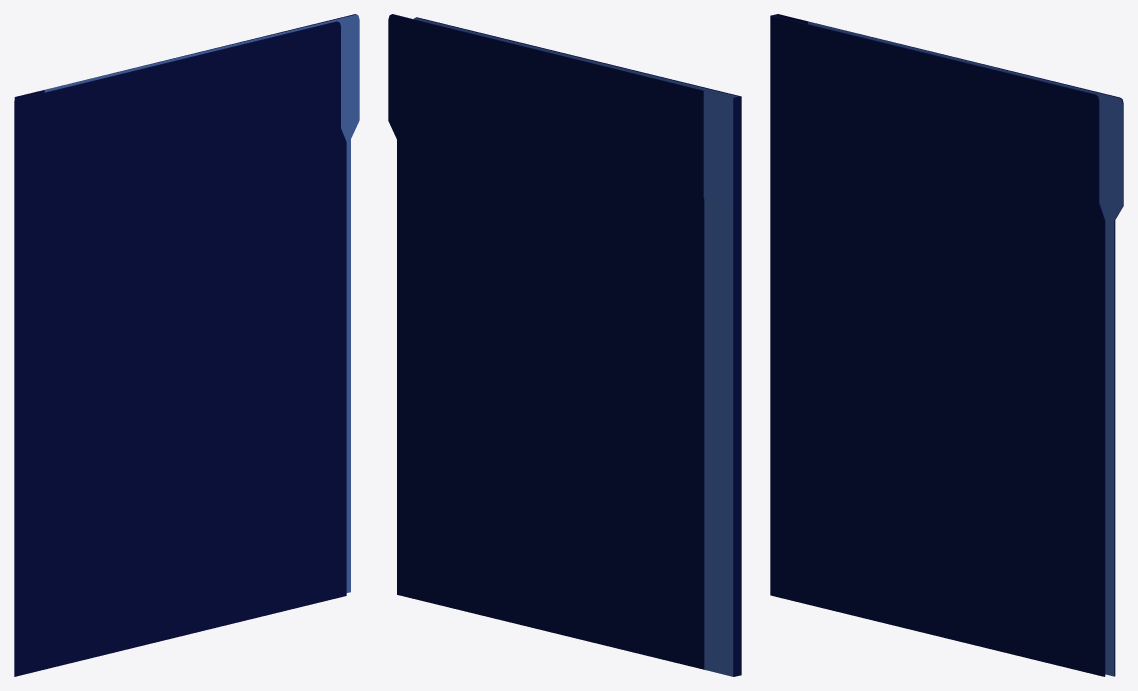
File: Folder.fbx
3 views of the same model, side by side, from view 1: azimuth 30°, elevation 25°; view 2: azimuth 150°, elevation 25°; view 3: azimuth 330°, elevation 25° (orthographic).
Parts seen in each view (by area): view 1: Folder 1; view 2: Folder 1; view 3: Folder 1.
Boxes of the visible parts, x1=… form: Folder 1: x1=14, y1=14, x2=359, y2=676; Folder 1: x1=388, y1=14, x2=741, y2=676; Folder 1: x1=770, y1=14, x2=1123, y2=676.
Bounding box in the file's own units: 8.63 × 13.67 × 0.1596.
